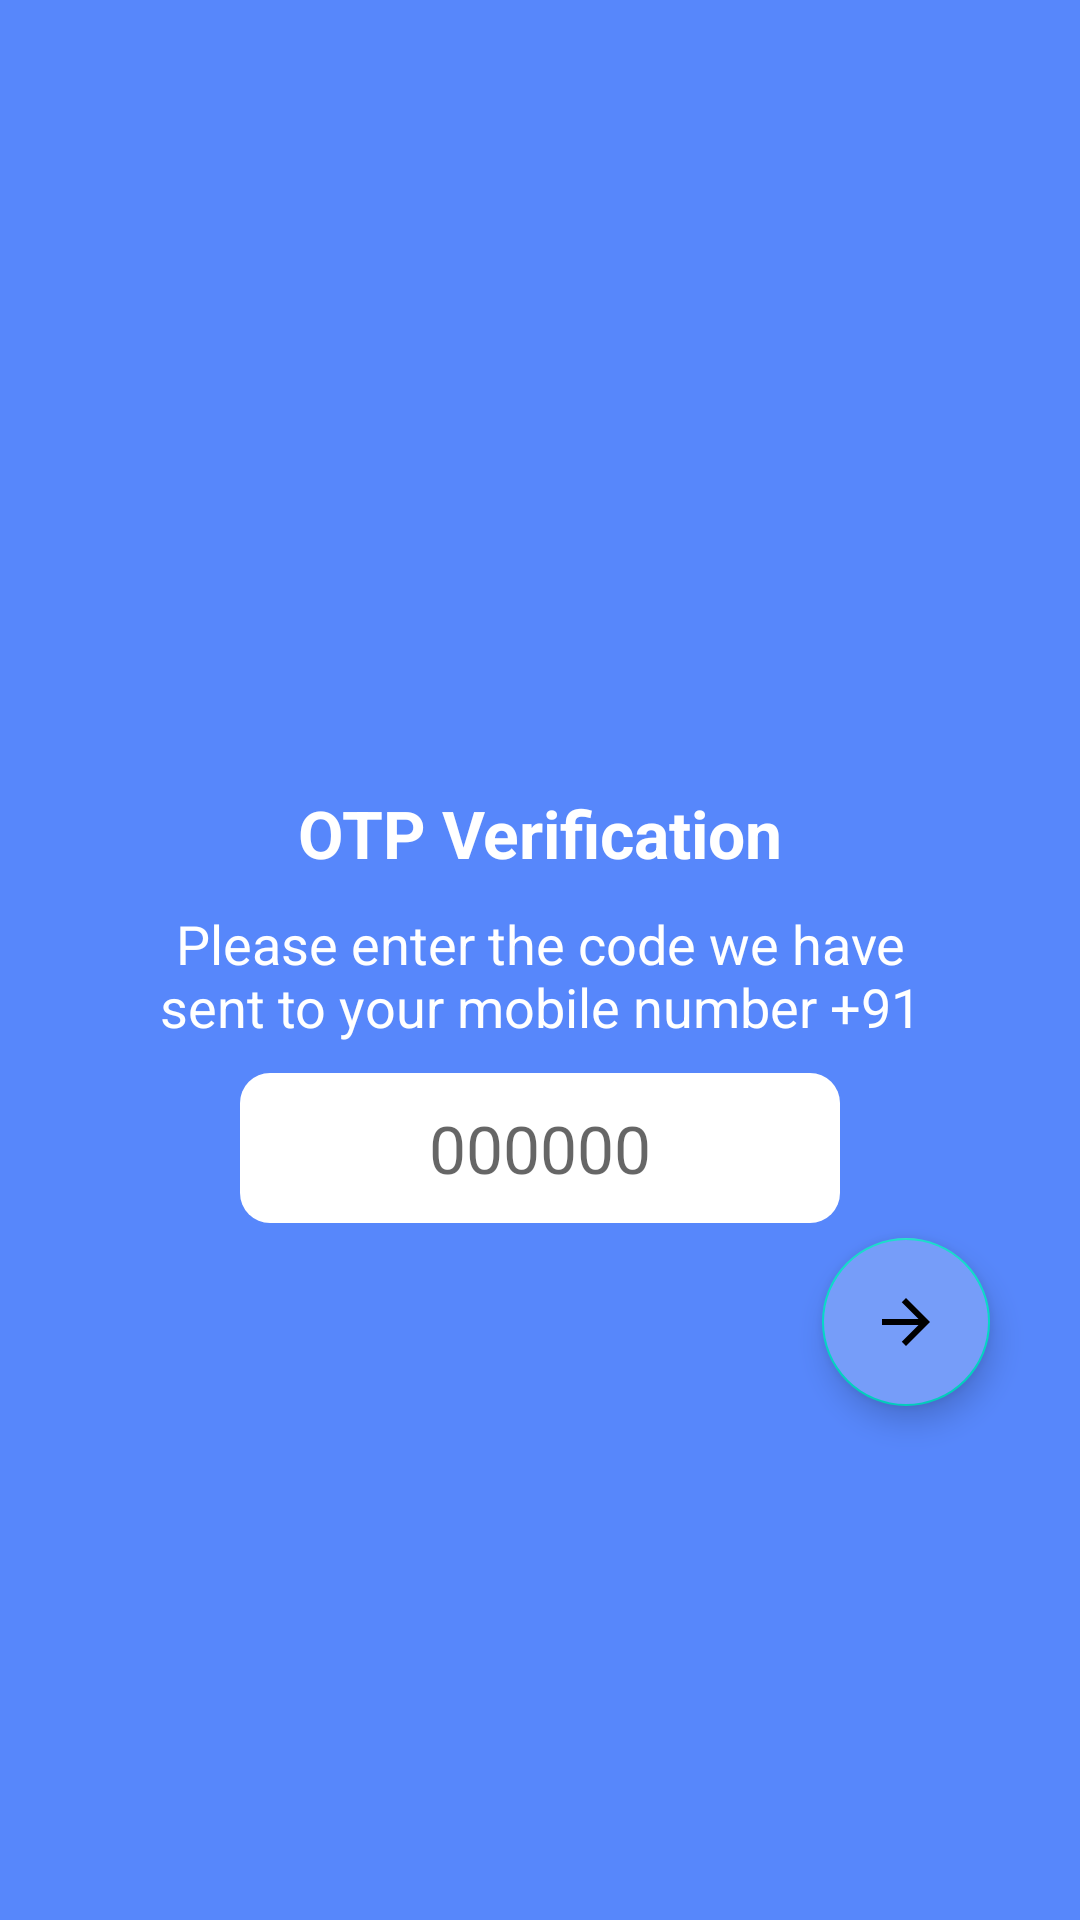

Screen size 1080px x 1920px. Icon name, then its box in pixels as (left=x1, top=y1, right=x2, bottom=y2):
forward arrow: (left=822, top=1238, right=990, bottom=1406)
